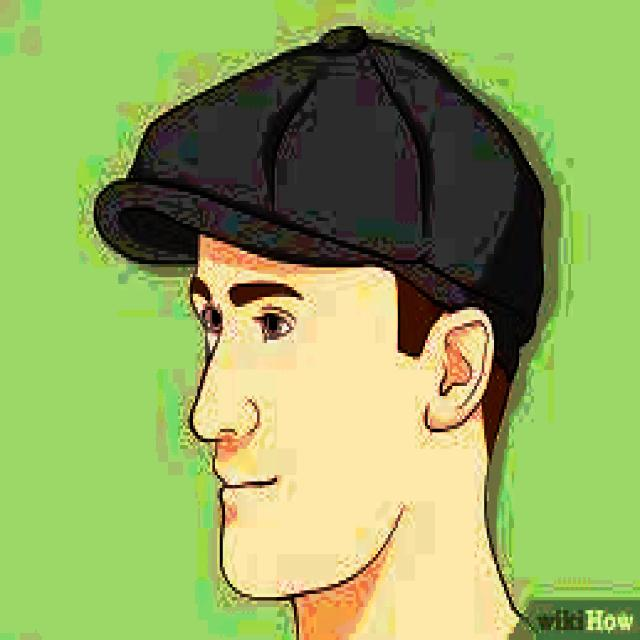TOPI: (86, 17, 544, 380)
